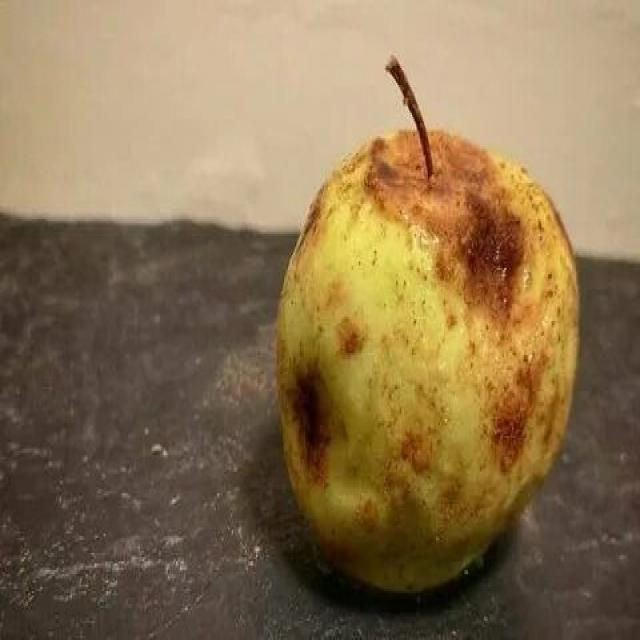Rotten: (267, 107, 587, 603)
